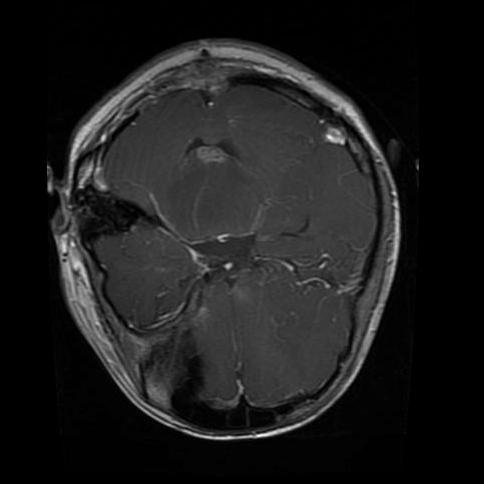Tumour-Glioma: (69, 186, 170, 313)
